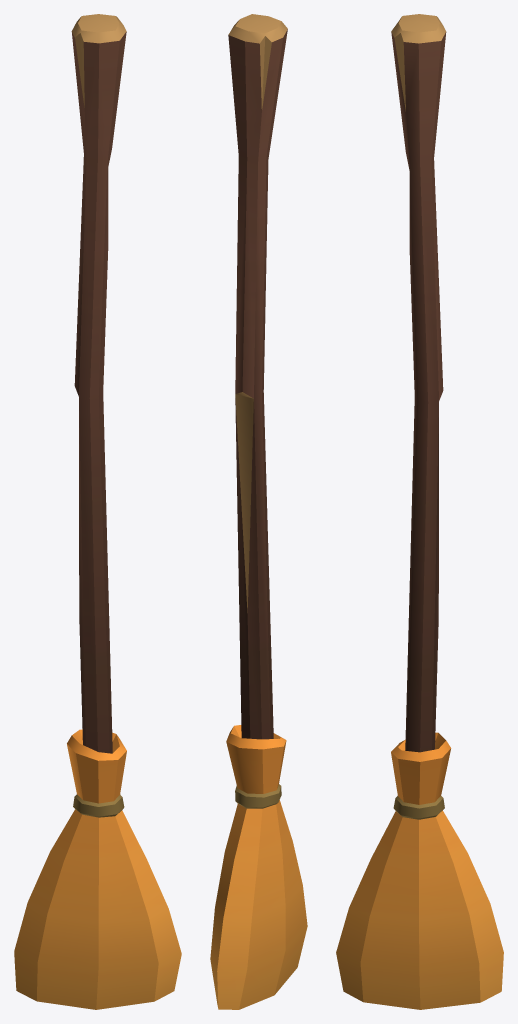
File: Broom_C.glb
The picture shows the model from 3 angles, left to right: view 1: azimuth 90°, elevation 25°; view 2: azimuth 150°, elevation 25°; view 3: azimuth 270°, elevation 25°; orthographic projection.
Visible parts, largest first — view 1: Broom_C; view 2: Broom_C; view 3: Broom_C.
Part boxes in pixels (bbox=[...]): Broom_C: bbox=[14, 14, 181, 1009]; Broom_C: bbox=[210, 14, 307, 1009]; Broom_C: bbox=[336, 14, 503, 1009].
Bounding box in the file's own units: 0.0985 × 1.65 × 0.2553.
1 material, 1 textured.
